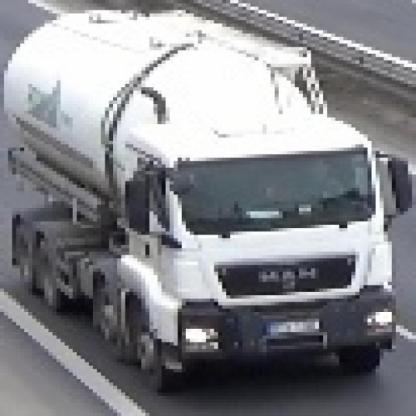truck: (5, 8, 416, 377)
